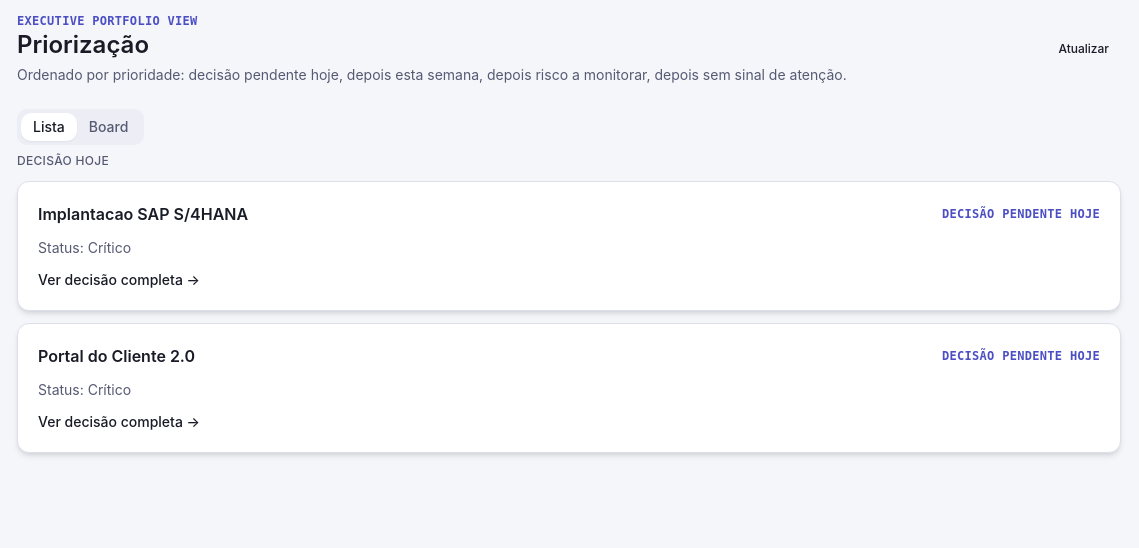
Test: PortfolioPage › shows the same items grouped into board columns when switching to the Board tab
Click the tab "Board" at (109, 127), box [77,113,140,141]
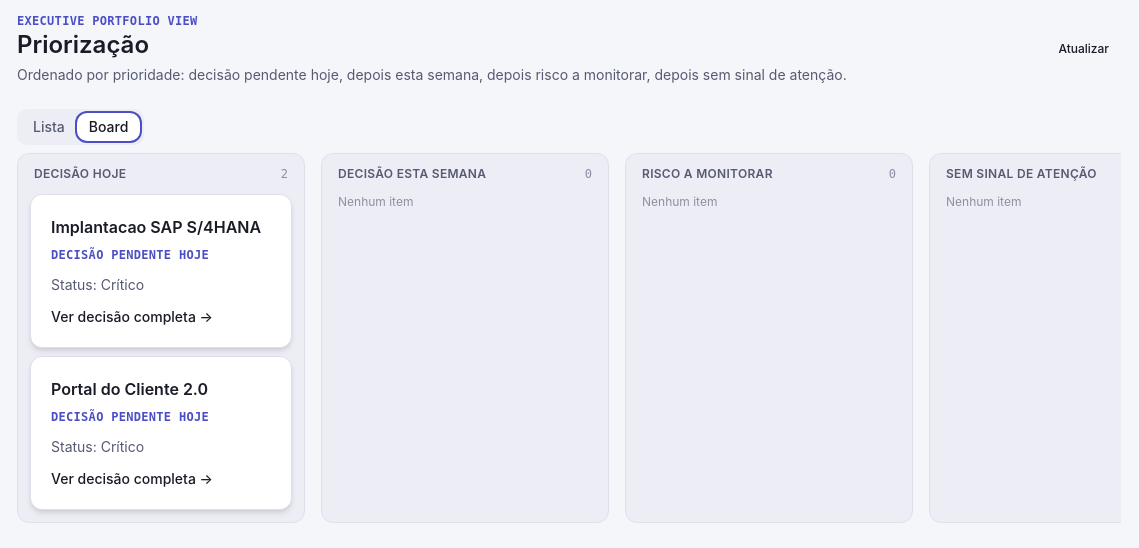
Check: the heading "Implantacao SAP S/4HANA" is shown, box [51,215,261,239]
Check: the element with test id "board-view" is shown
